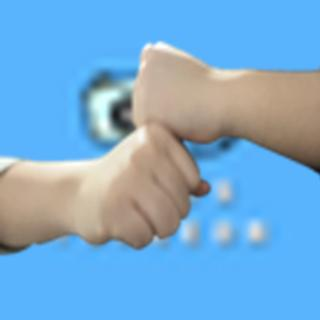CAREFUL: (36, 40, 306, 255)
